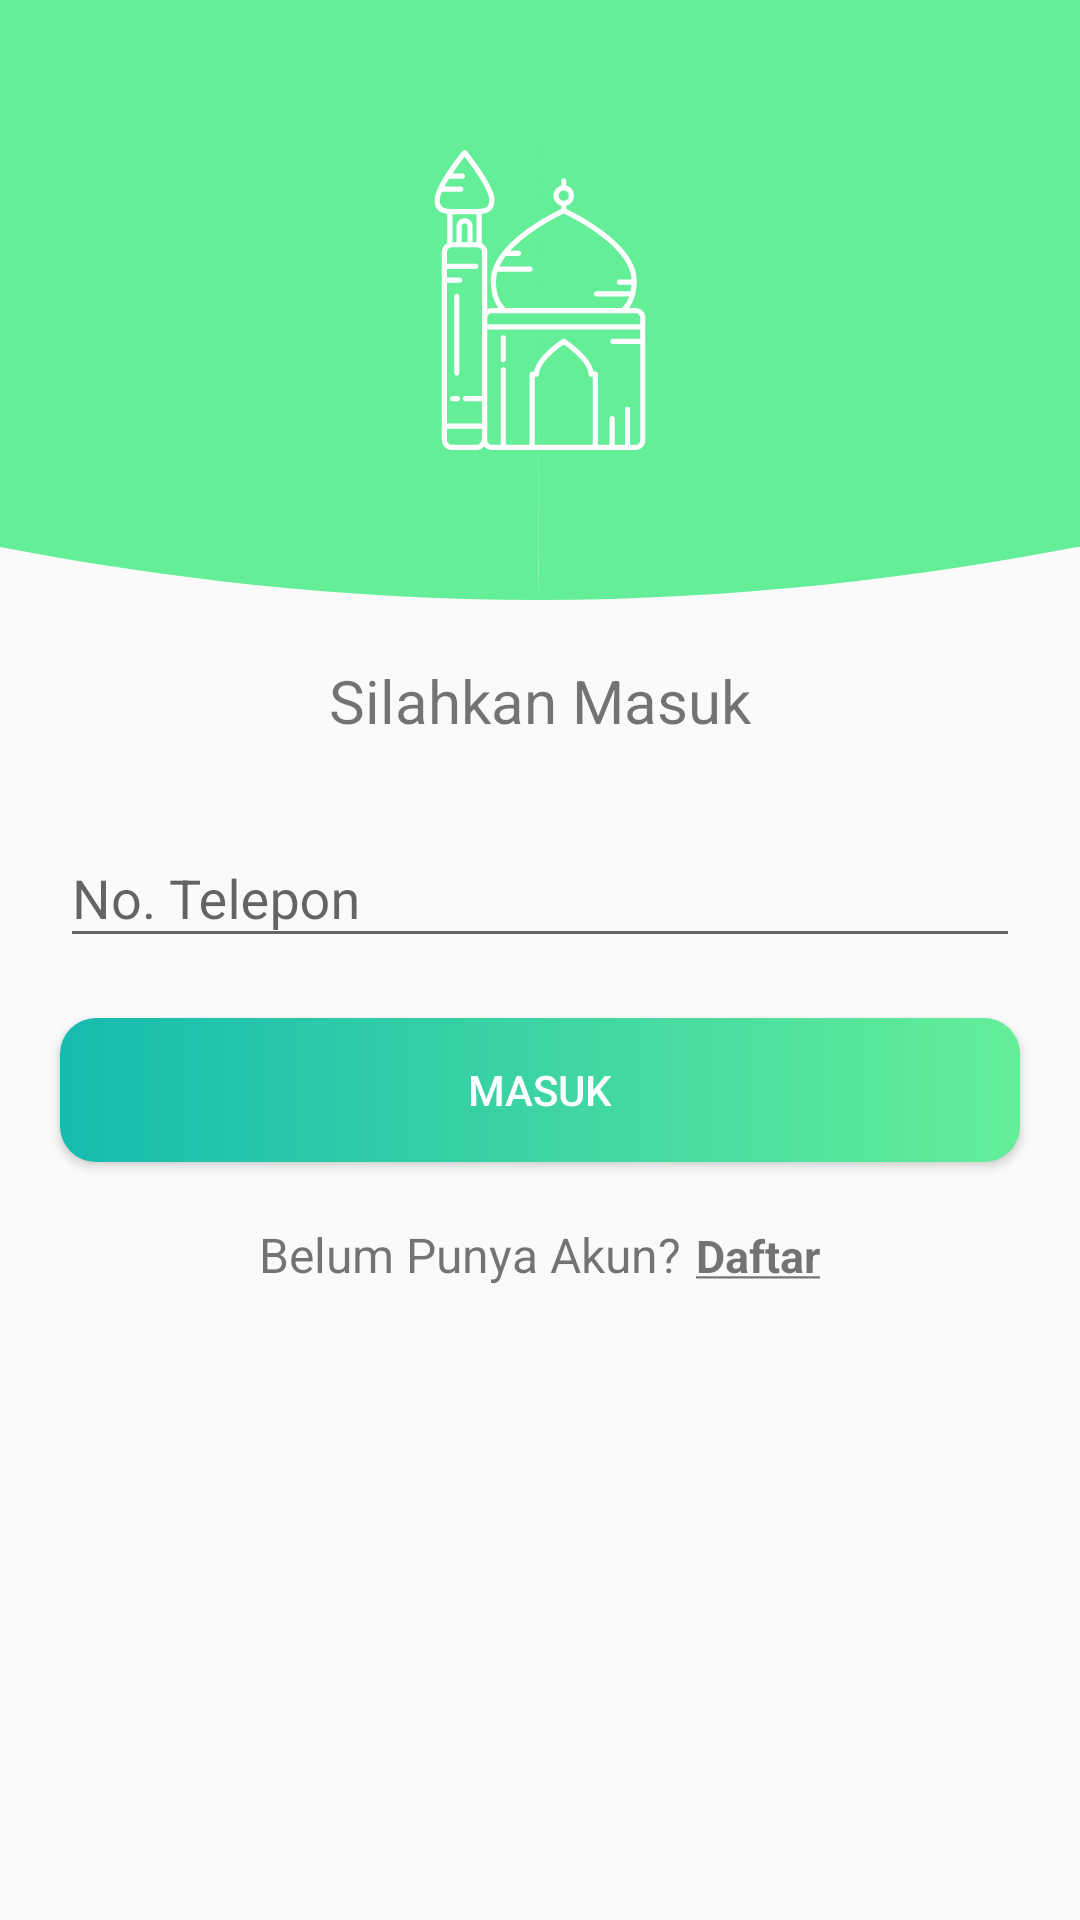

Where to tap for icons on this 1080 × 1920 app screen, as [x,y]:
mosque: [540,300]
